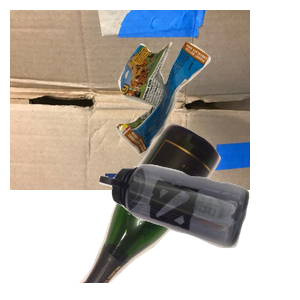cardboard: (10, 10, 250, 190)
glass: (66, 120, 279, 300)
plastic: (97, 162, 300, 300)
trash: (114, 39, 300, 188)
